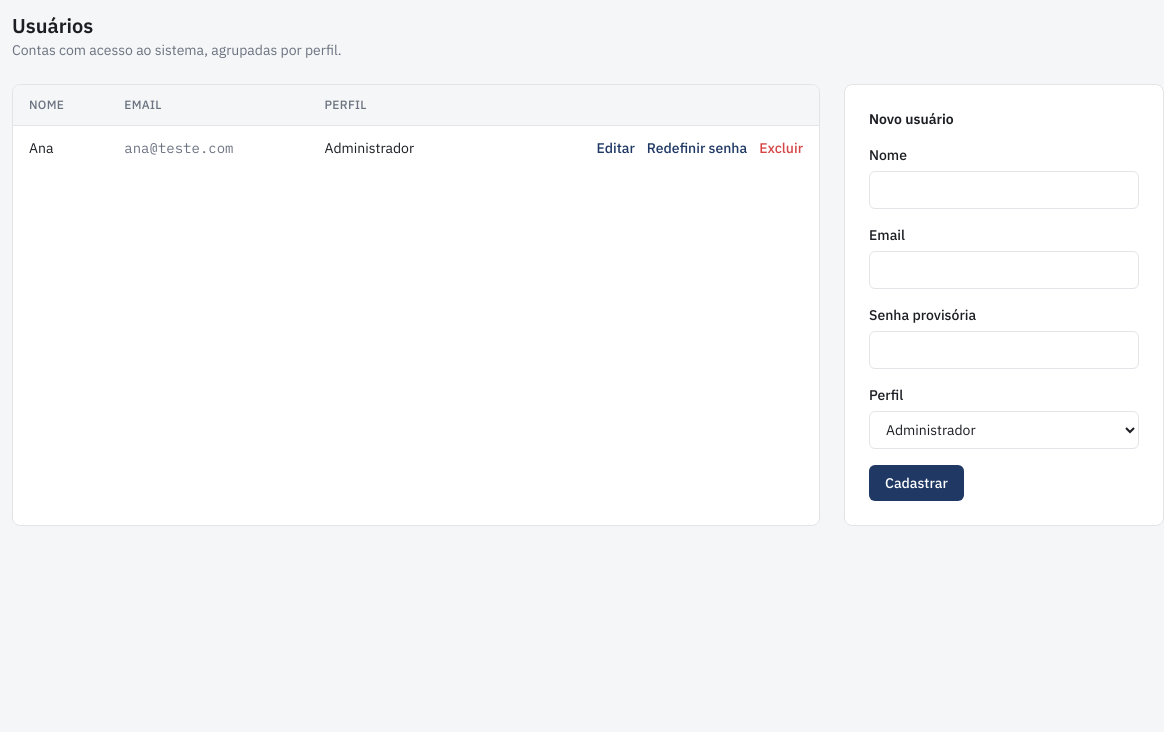
Test: UsuariosPage › edita um usuário existente sem exigir senha, e sem mostrar o campo de senha
Click the button "Editar": click(616, 148) [596,138,635,158]
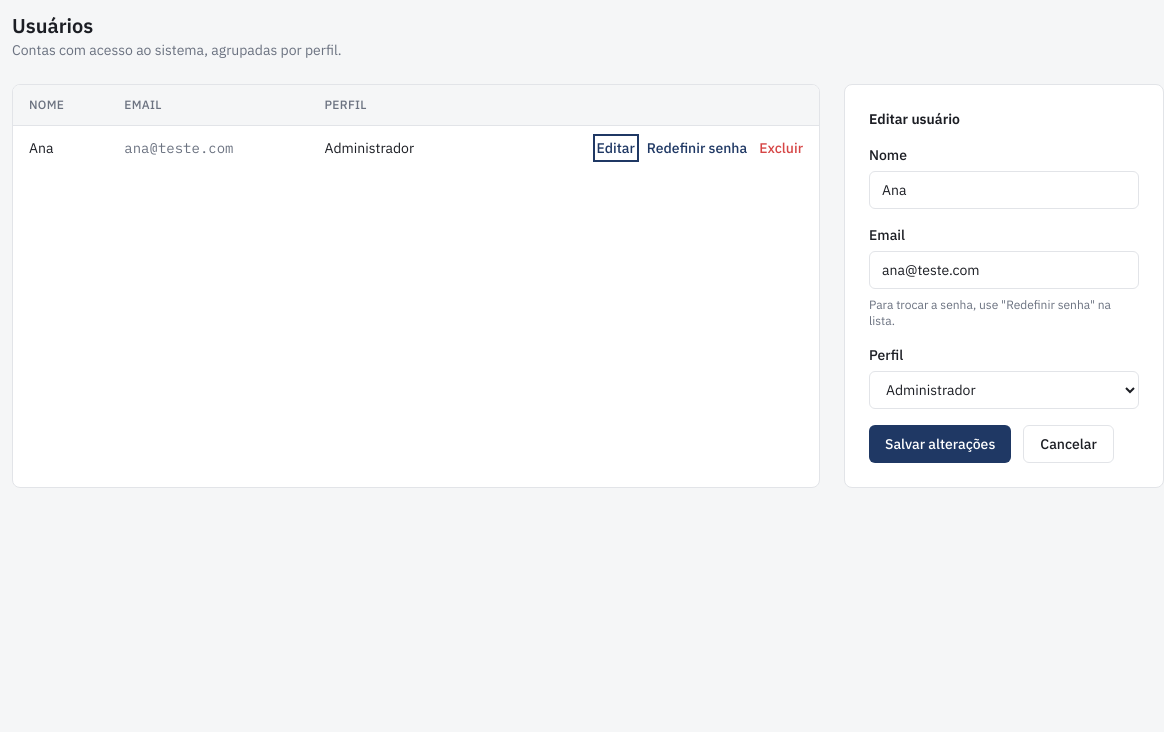
Expected: the field labelled "Nome" holds "Ana", [869,171,1139,209]
Expected: the label labelled "Senha provisória" is gone
Click the button "Salvar alterações": click(940, 444) [869,425,1011,463]
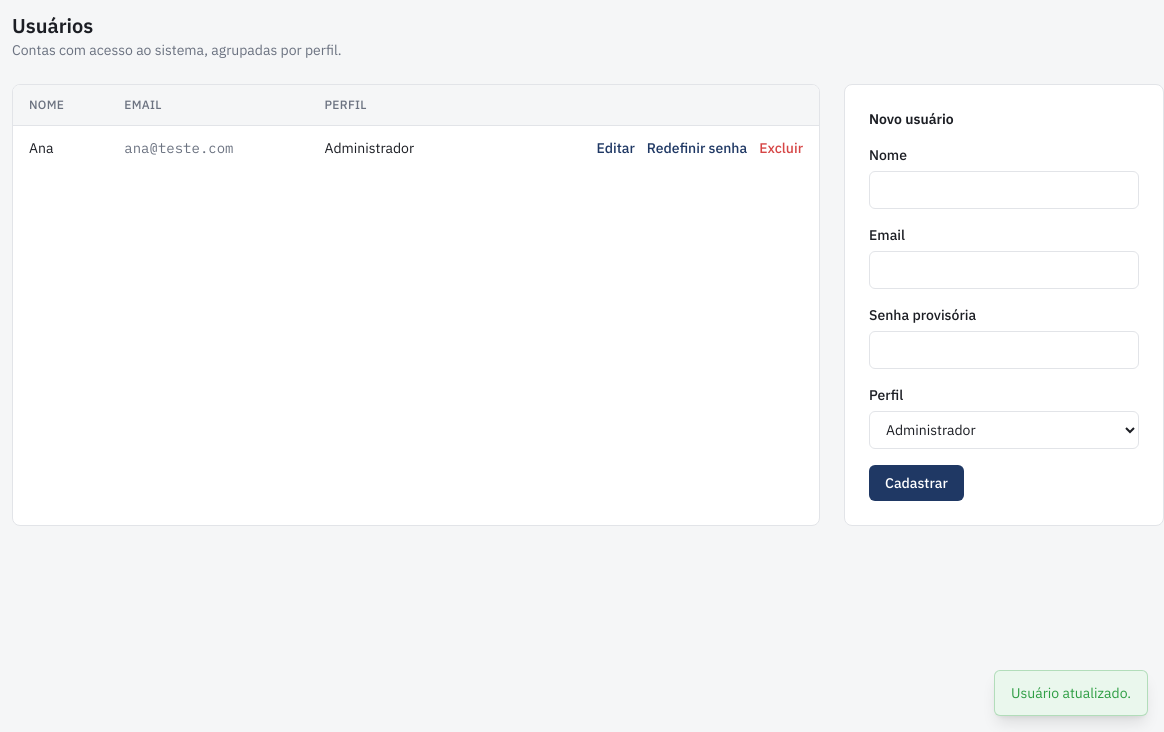
Expected: the text "Usuário atualizado." is shown, [994,670,1148,716]
